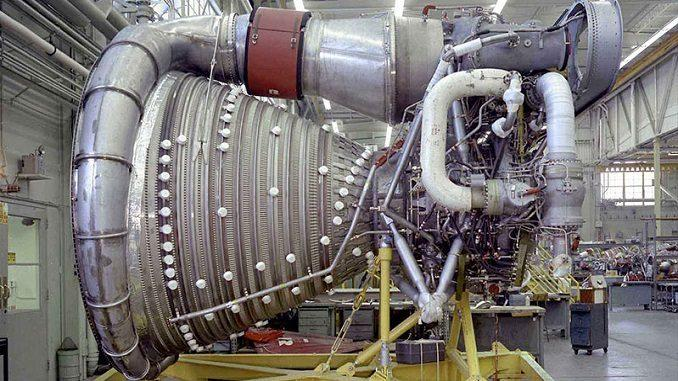thruster: (67, 62, 379, 367)
